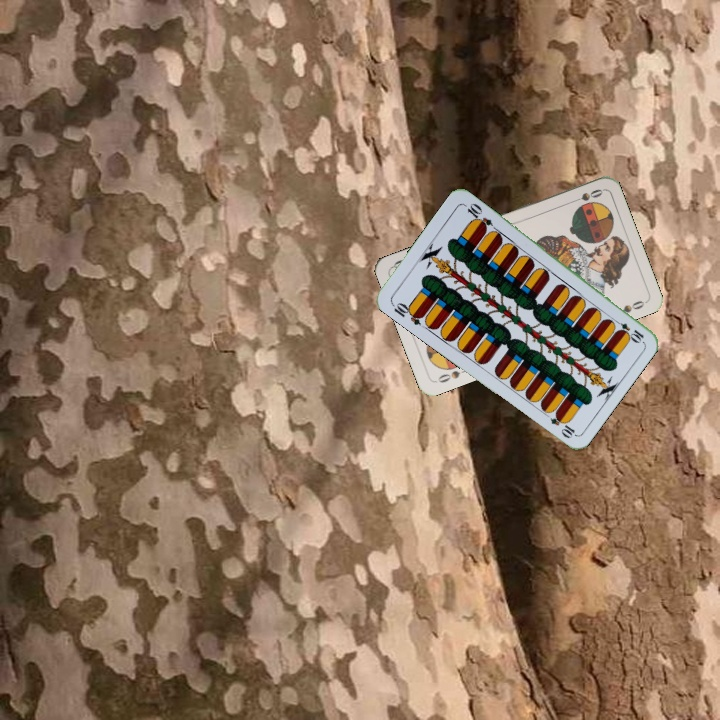E10: (388, 298, 426, 328), (609, 315, 646, 345)
SO: (566, 185, 605, 206), (432, 365, 471, 385)
